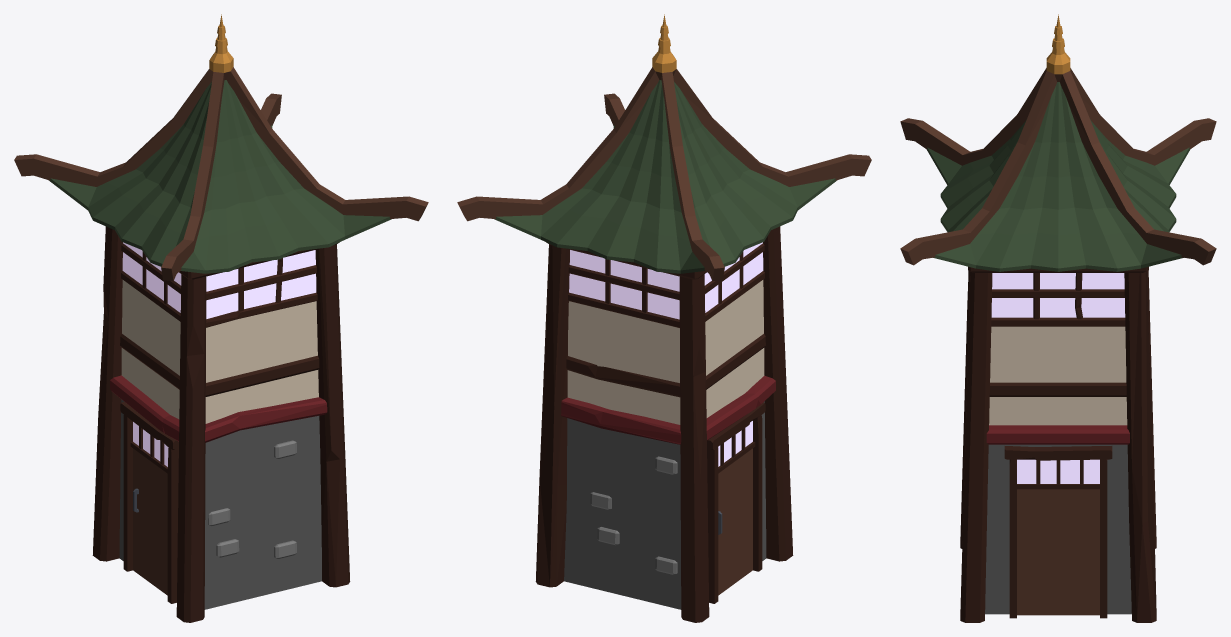
Rendered from Tower_1 Asia.fbx.
3 views of the same model, side by side, from view 1: azimuth 30°, elevation 25°; view 2: azimuth 150°, elevation 25°; view 3: azimuth 270°, elevation 25° (orthographic). The views are drawn at different scales.
Parts seen in each view (by area): view 1: Tower_1; view 2: Tower_1; view 3: Tower_1.
Boxes of the visible parts, x1,y1,x2,y2 form: Tower_1: (14,14,428,622); Tower_1: (457,14,871,622); Tower_1: (900,14,1216,622).
Size of the model in its own units: 3.42 by 6.77 by 3.42.
